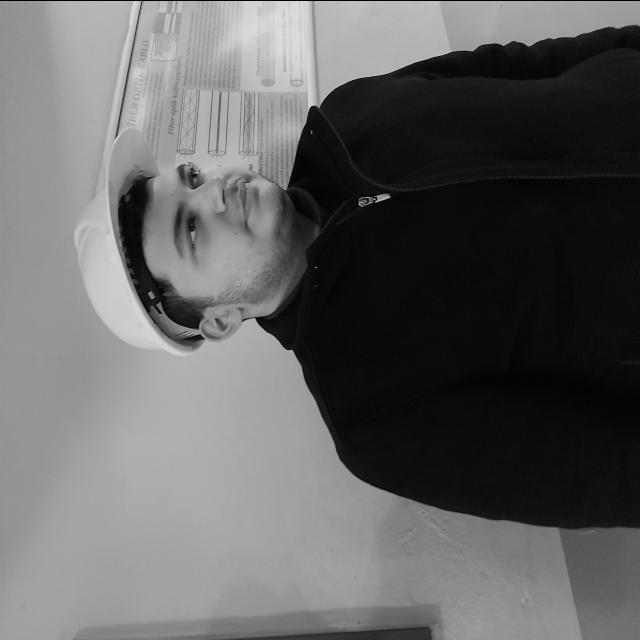safety_helmet: (78, 128, 205, 355)
